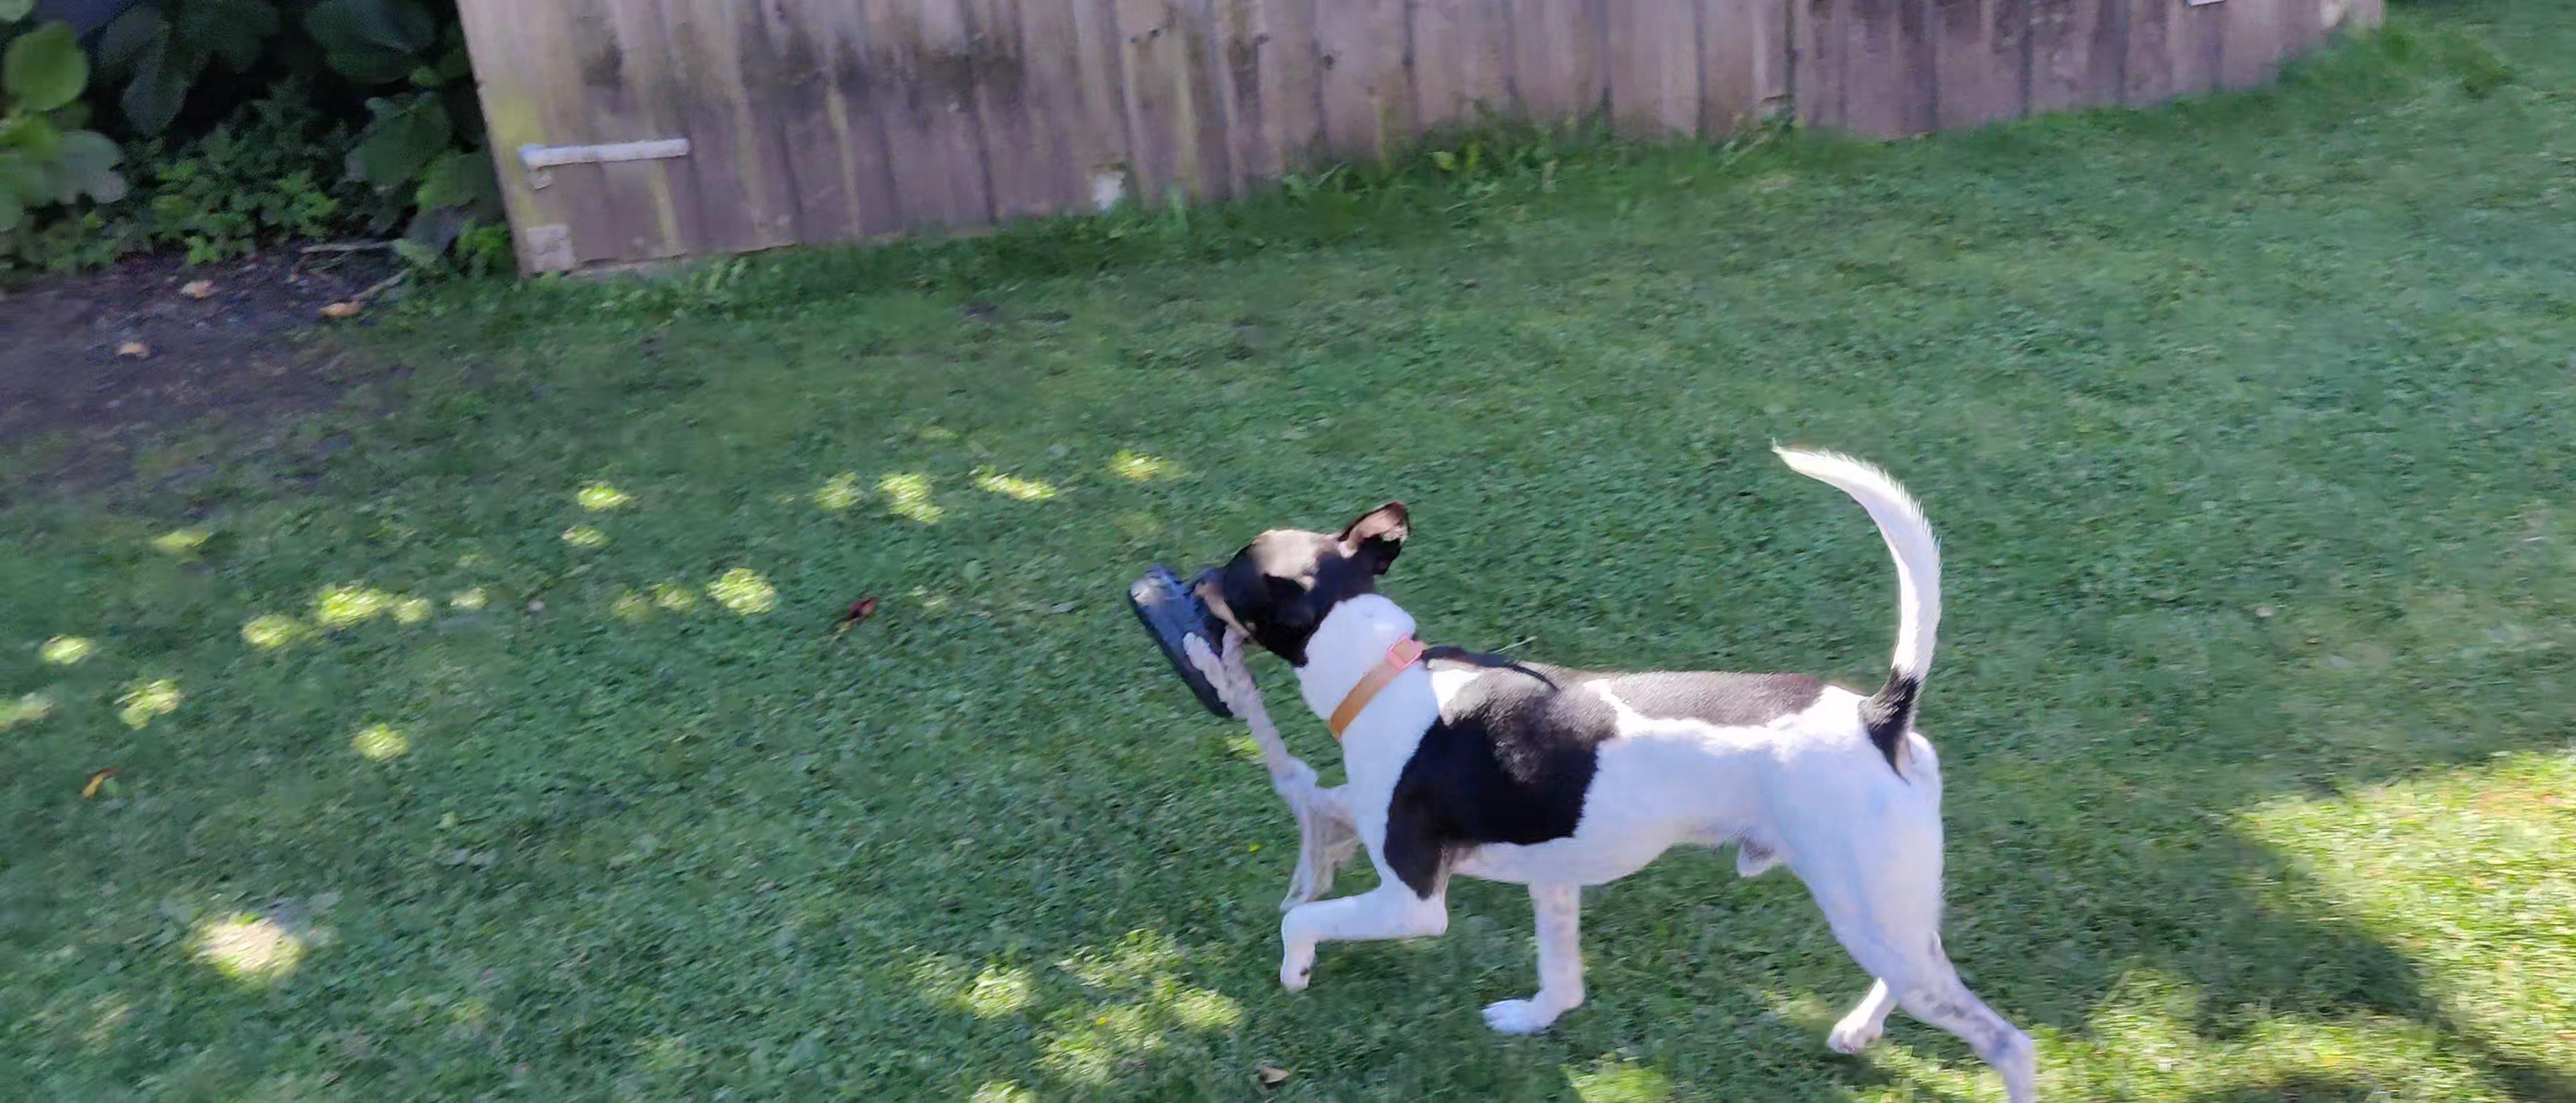Dog: (1181, 427, 2073, 1103)
